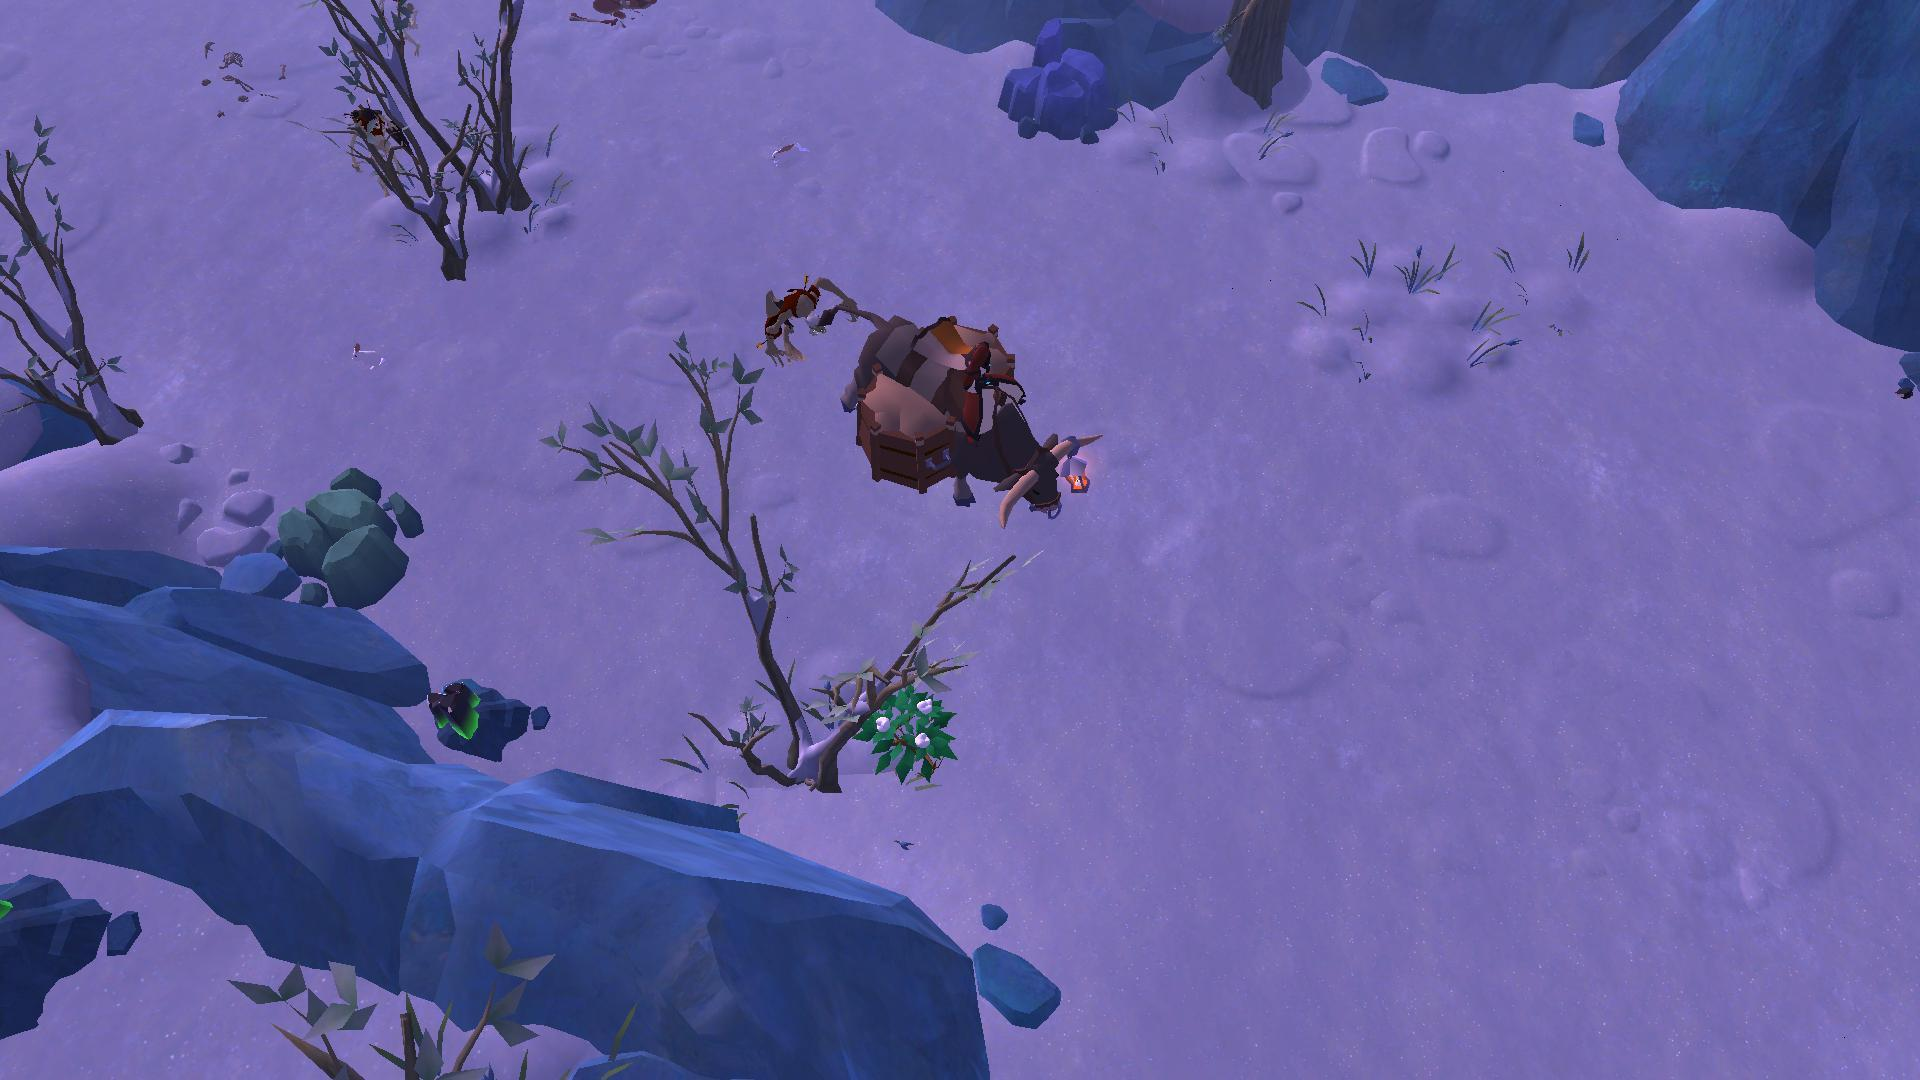enemy_factionUndead: (748, 265, 853, 373), (316, 105, 425, 203)
fiber_t3: (858, 682, 960, 785)
ore_t3: (419, 674, 485, 756)
rock_t3: (264, 458, 426, 612)
